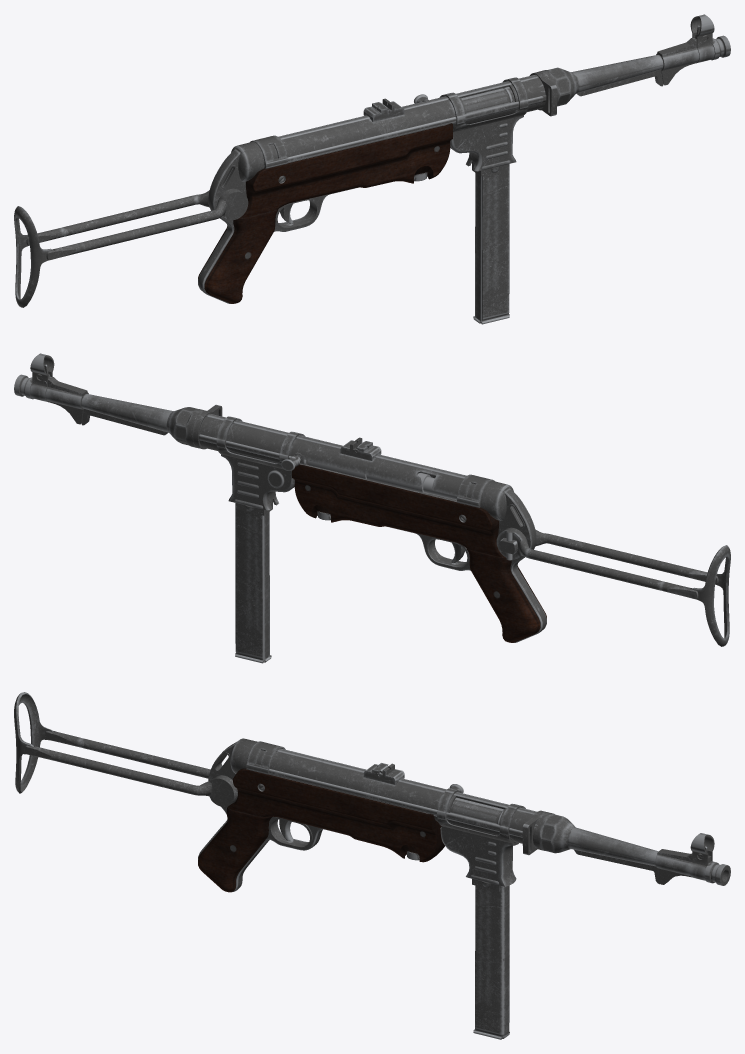
3 views of the same model, one above another, from view 1: azimuth 30°, elevation 25°; view 2: azimuth 150°, elevation 25°; view 3: azimuth 330°, elevation 25° (orthographic).
Visible parts, largest first — view 1: MP40, MP40.002, MP40.001, MP40.003; view 2: MP40, MP40.002, MP40.001, MP40.003; view 3: MP40, MP40.002, MP40.001, MP40.003.
Boxes of the visible parts, x1,y1,x2,y2 form: MP40: (198,14,730,303); MP40.002: (14,188,248,307); MP40.001: (472,161,509,324); MP40.003: (414,87,514,113); MP40: (14,353,546,642); MP40.002: (496,527,730,646); MP40.001: (235,500,272,663); MP40.003: (281,453,366,478); MP40: (198,738,730,892); MP40.002: (14,692,237,806); MP40.001: (472,879,509,1039); MP40.003: (449,784,504,824).
Bounding box in the file's own units: 84.82 × 28.71 × 6.9.
